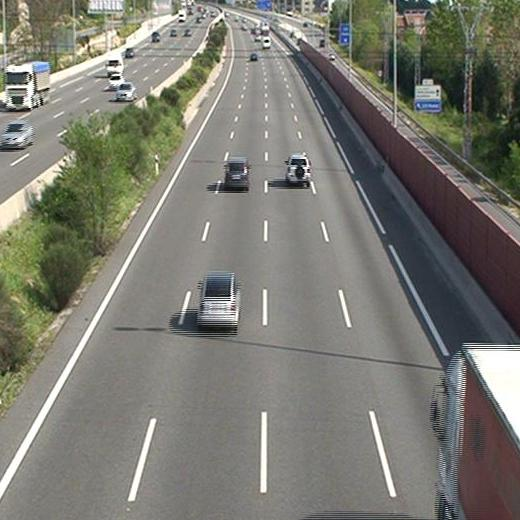car: (197, 272, 241, 327), (284, 155, 311, 185), (224, 157, 250, 187), (250, 51, 258, 61)
